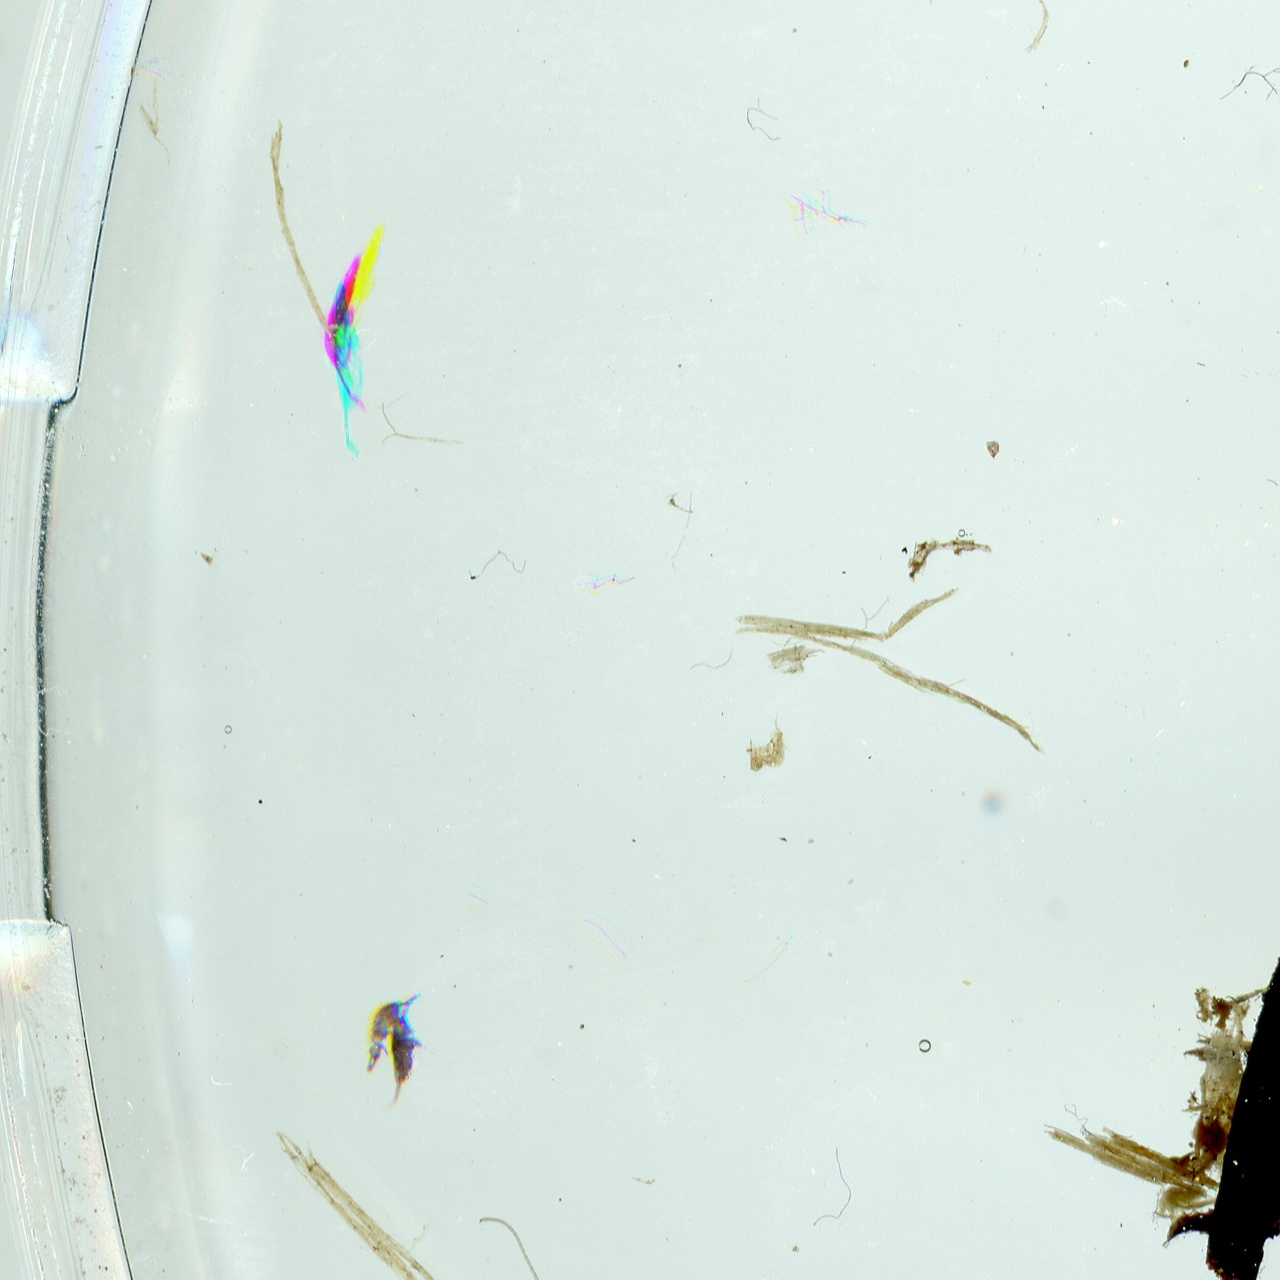arthropod: (360, 985, 425, 1083), (377, 989, 425, 1116)
